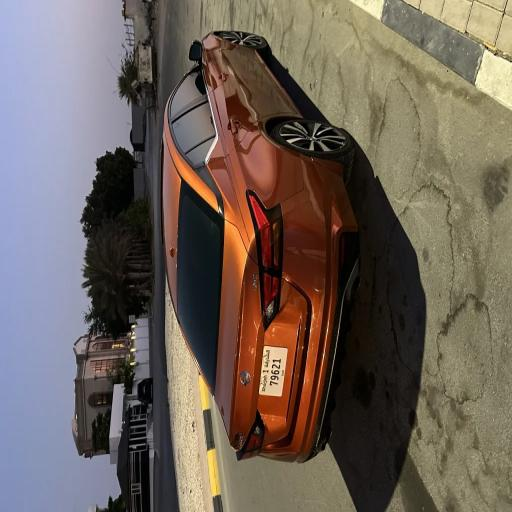license-plates: (259, 346, 288, 396)
